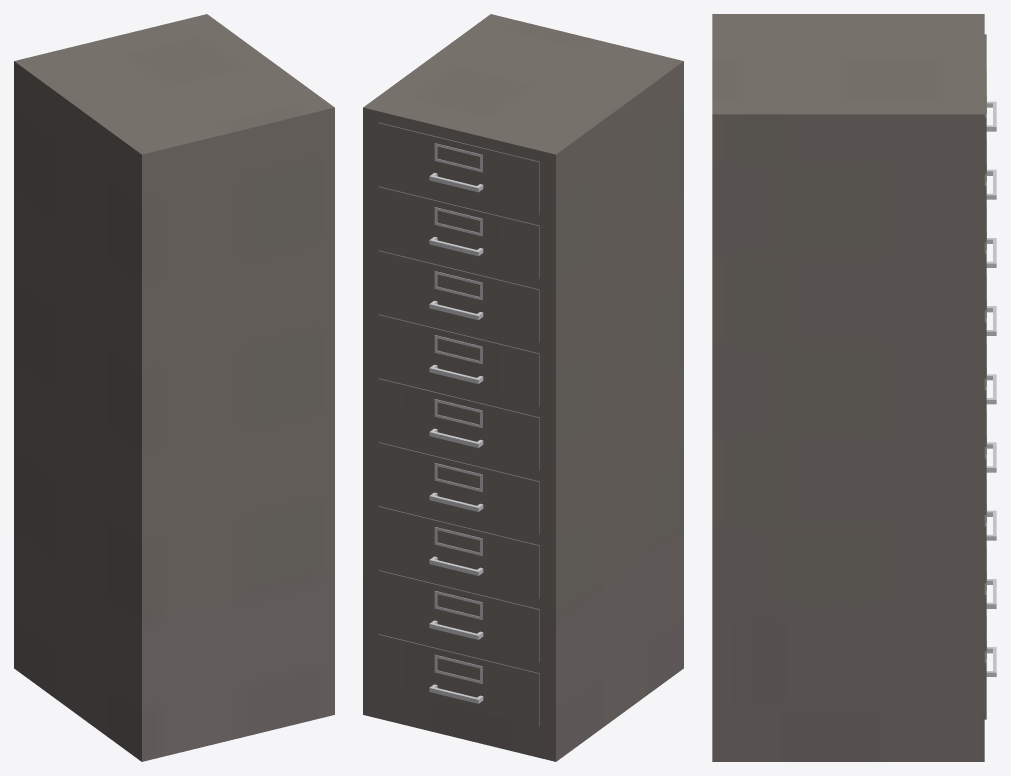
File: Drawer46.glb
3 views of the same model, side by side, from view 1: azimuth 30°, elevation 25°; view 2: azimuth 150°, elevation 25°; view 3: azimuth 270°, elevation 25° (orthographic). The views are drawn at different scales.
Parts seen in each view (by area): view 1: Drawer46_Body; view 2: Drawer46_Body, Drawer46_5, Drawer46_9, Drawer46_1, Drawer46_4, Drawer46_6, Drawer46_7, Drawer46_8, Drawer46_2, Drawer46_3; view 3: Drawer46_Body, Drawer46_1.
Part boxes in pixels (x1,y1,x2,y2): Drawer46_Body: (14, 14, 334, 761); Drawer46_Body: (363, 14, 683, 761); Drawer46_5: (378, 378, 539, 470); Drawer46_9: (378, 634, 539, 726); Drawer46_1: (378, 122, 539, 214); Drawer46_4: (378, 314, 539, 406); Drawer46_6: (378, 442, 539, 534); Drawer46_7: (378, 506, 539, 598); Drawer46_8: (378, 570, 539, 662); Drawer46_2: (378, 186, 539, 278); Drawer46_3: (378, 250, 539, 342); Drawer46_Body: (712, 14, 984, 761); Drawer46_1: (984, 34, 996, 174).
Bounding box in the file's own units: 0.803 × 2.41 × 0.9612.
1 material, 1 textured.
